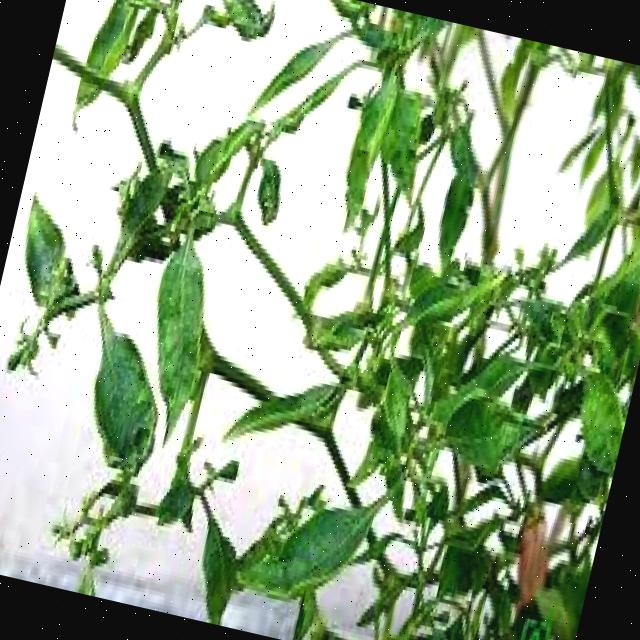leaf curl: (0, 0, 358, 551), (259, 227, 567, 640)
